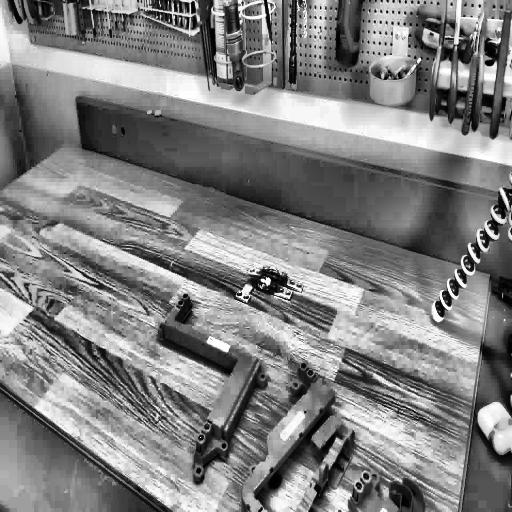busbar: (143, 286, 431, 512), (234, 259, 304, 314)
